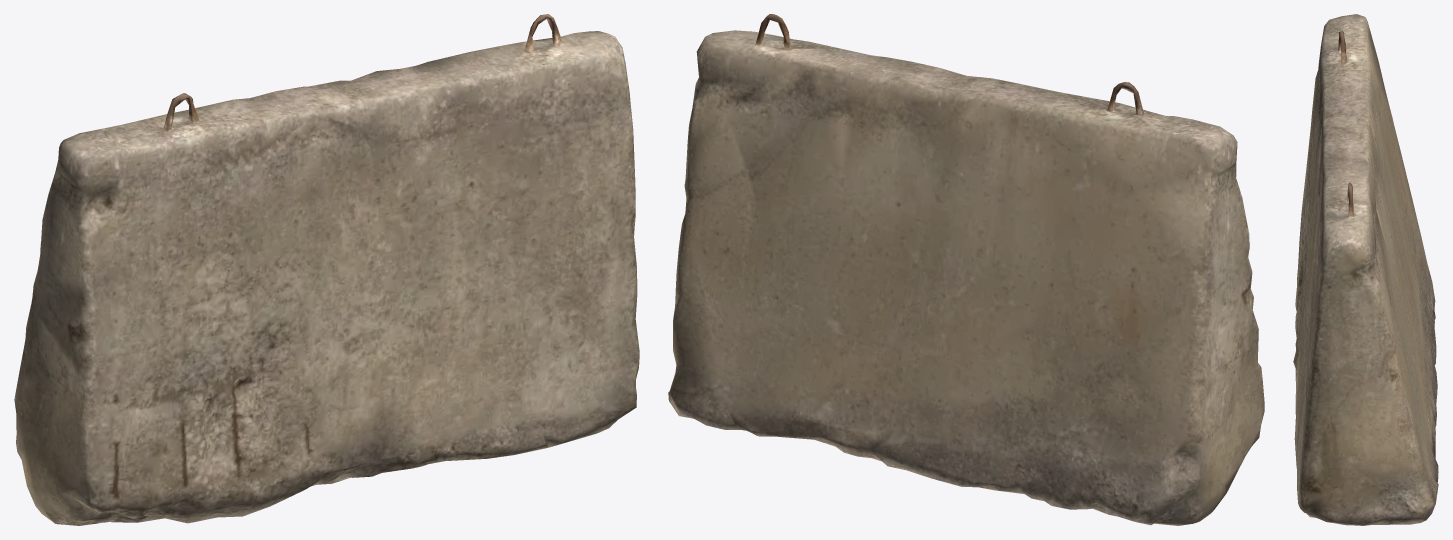
File: concrete_road_barrier_02.glb
The picture shows the model from 3 angles, left to right: view 1: azimuth 30°, elevation 25°; view 2: azimuth 150°, elevation 25°; view 3: azimuth 270°, elevation 25°; orthographic projection. The views are drawn at different scales.
Visible parts, largest first — view 1: concrete_road_barrier_02; view 2: concrete_road_barrier_02; view 3: concrete_road_barrier_02.
Boxes of the visible parts, x1=… form: concrete_road_barrier_02: x1=14, y1=14, x2=639, y2=525; concrete_road_barrier_02: x1=668, y1=14, x2=1264, y2=525; concrete_road_barrier_02: x1=1293, y1=14, x2=1438, y2=525.
Size of the model in its own units: 1.56 by 1.11 by 0.4419.
1 material, 1 textured.
